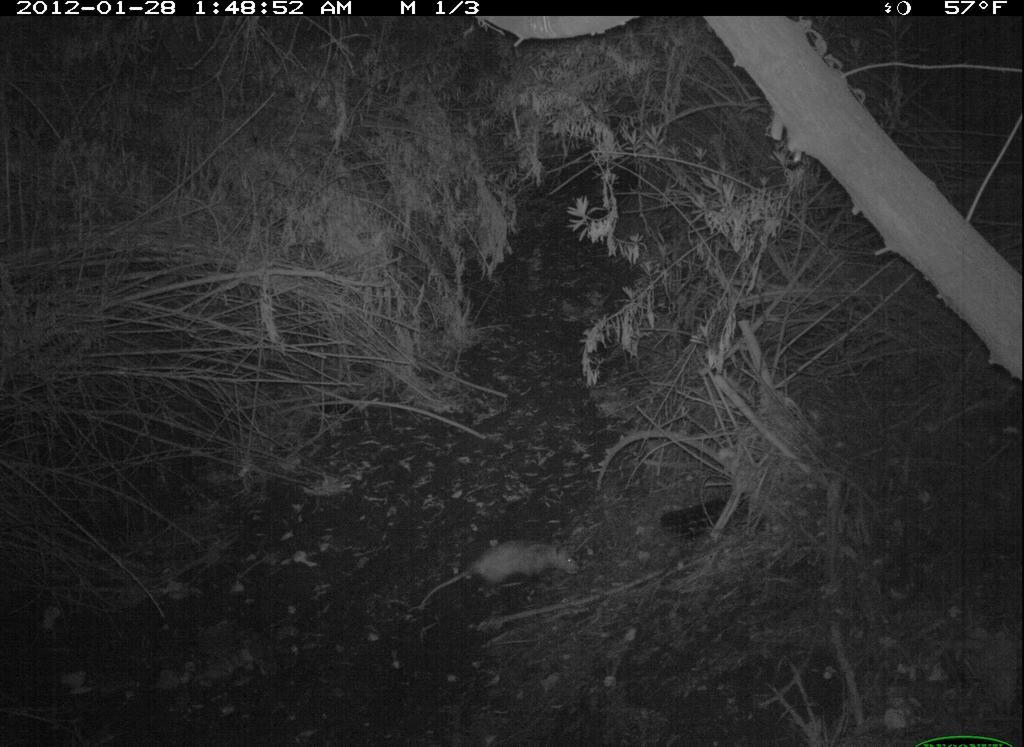opossum: (420, 534, 588, 617)
